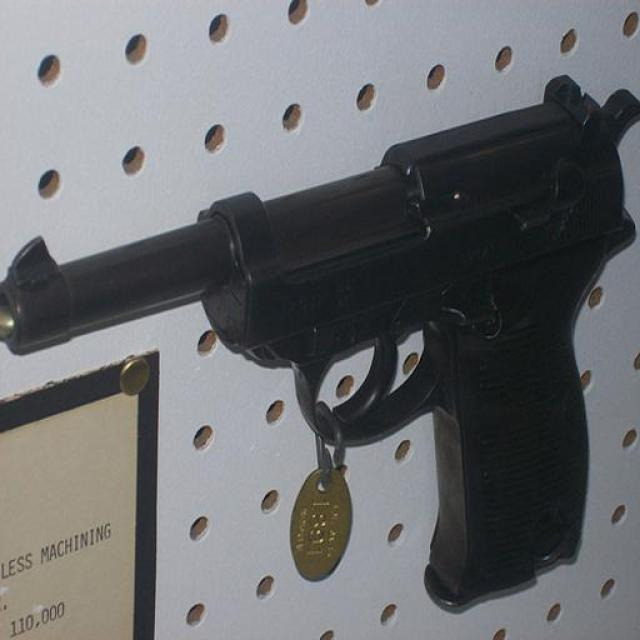pistol: (1, 68, 640, 609)
